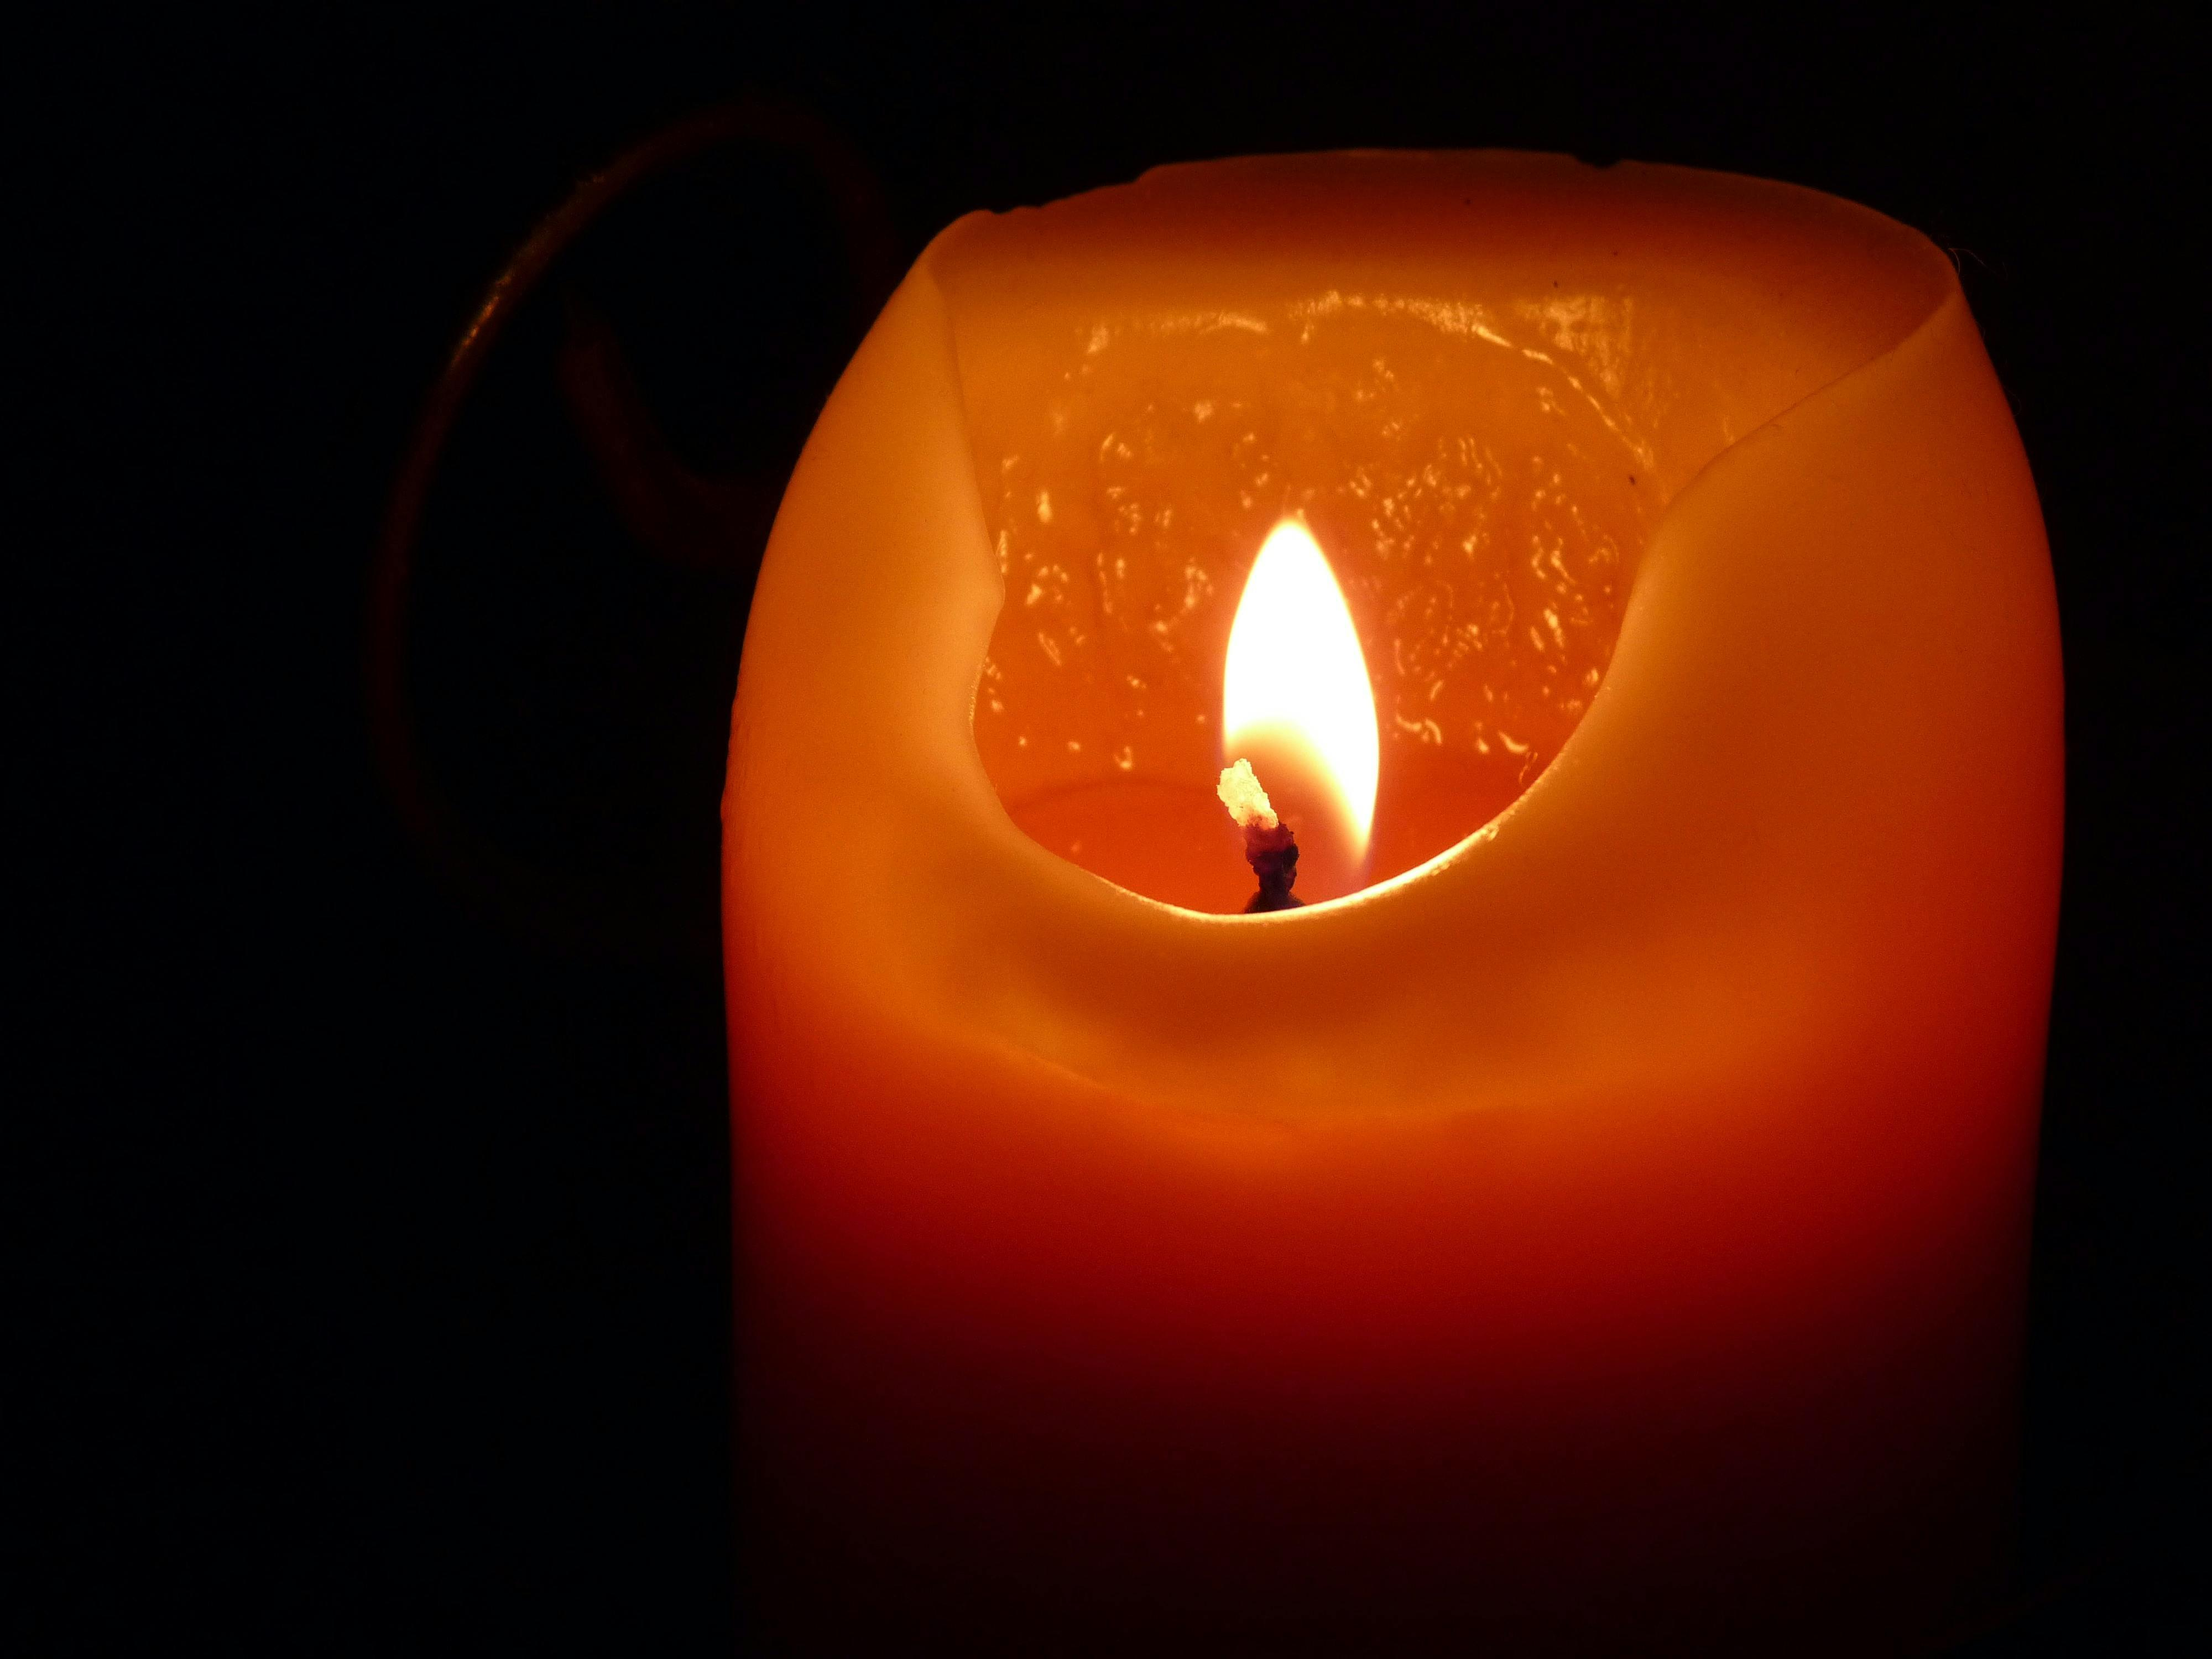Fire: (1190, 504, 1411, 887)
